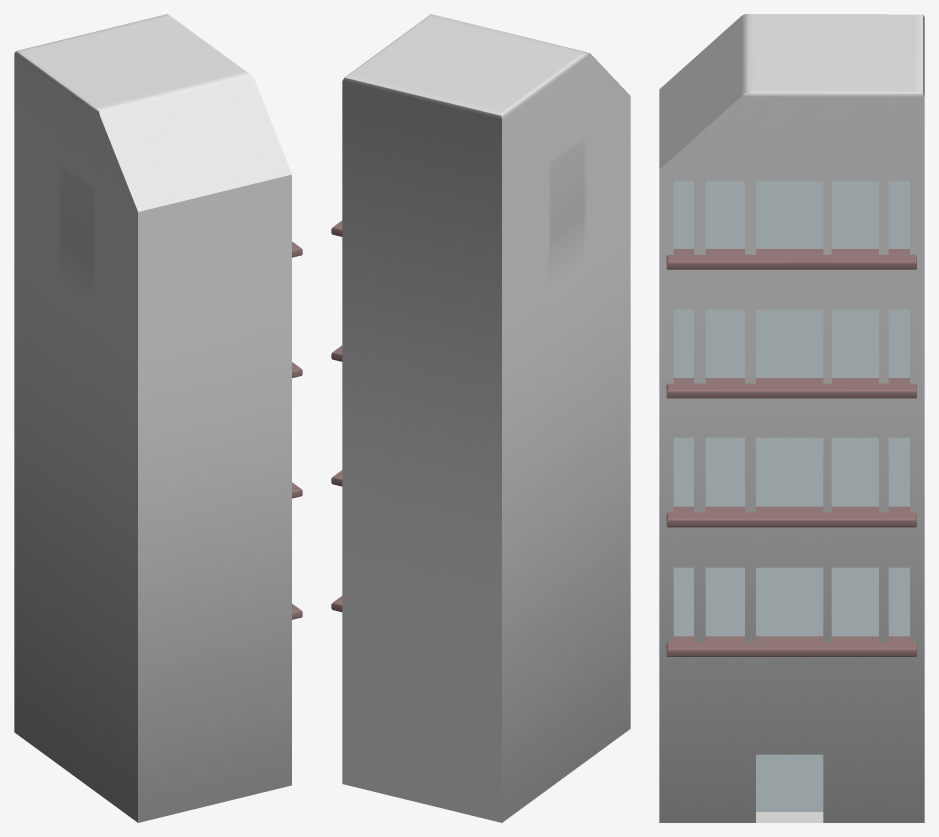
The model's file is BuildingTall_02.fbx.
The picture shows the model from 3 angles, left to right: view 1: azimuth 30°, elevation 25°; view 2: azimuth 150°, elevation 25°; view 3: azimuth 270°, elevation 25°; orthographic projection. The views are drawn at different scales.
Parts seen in each view (by area): view 1: polySurface757; view 2: polySurface757; view 3: polySurface757.
Boxes of the visible parts, x1,y1,x2,y2 form: polySurface757: (14, 14, 302, 822); polySurface757: (331, 14, 630, 822); polySurface757: (659, 14, 924, 822).
Bounding box in the file's own units: 4.03 × 15.63 × 5.14.
